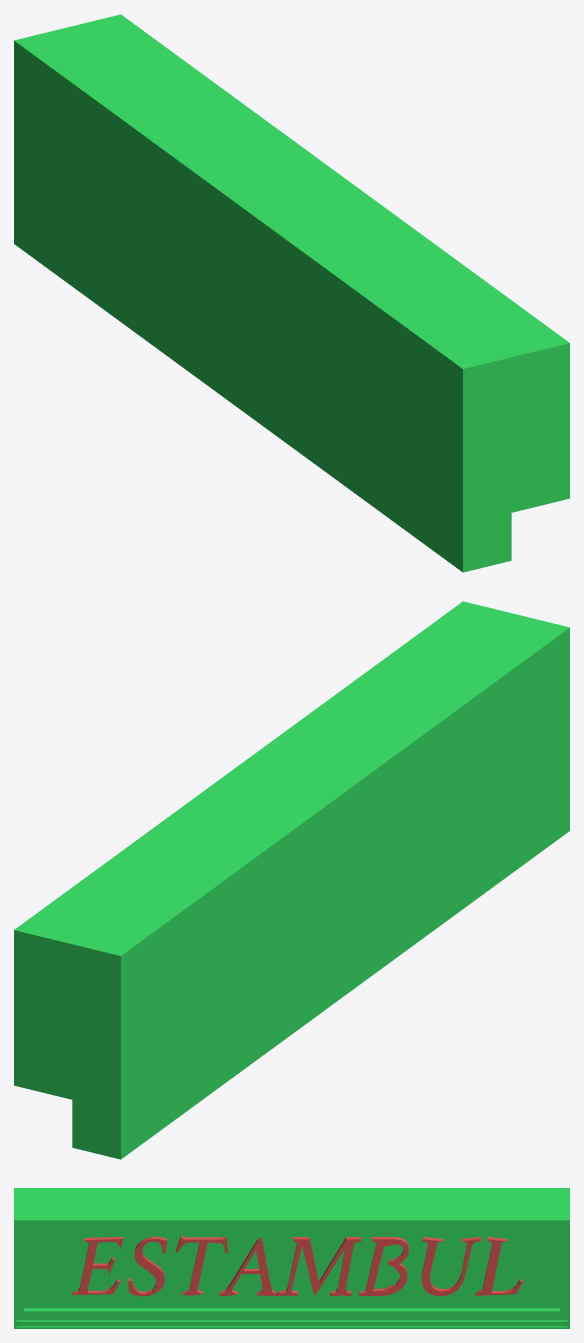
Rendered from PARTE_ARRIBA_TIENDA.fbx.
3 renders of one model, top to bottom at view 1: azimuth 30°, elevation 25°; view 2: azimuth 150°, elevation 25°; view 3: azimuth 270°, elevation 25°, orthographic. The views are drawn at different scales.
Visible parts, largest first — view 1: Cube.001; view 2: Cube.001; view 3: Cube.001, Text.
Boxes of the visible parts, x1,y1,x2,y2 form: Cube.001: (14, 14, 569, 572); Cube.001: (14, 601, 569, 1159); Cube.001: (14, 1188, 569, 1328); Text: (72, 1236, 522, 1296).
Bounding box in the file's own units: 55.62 × 100 × 400.
